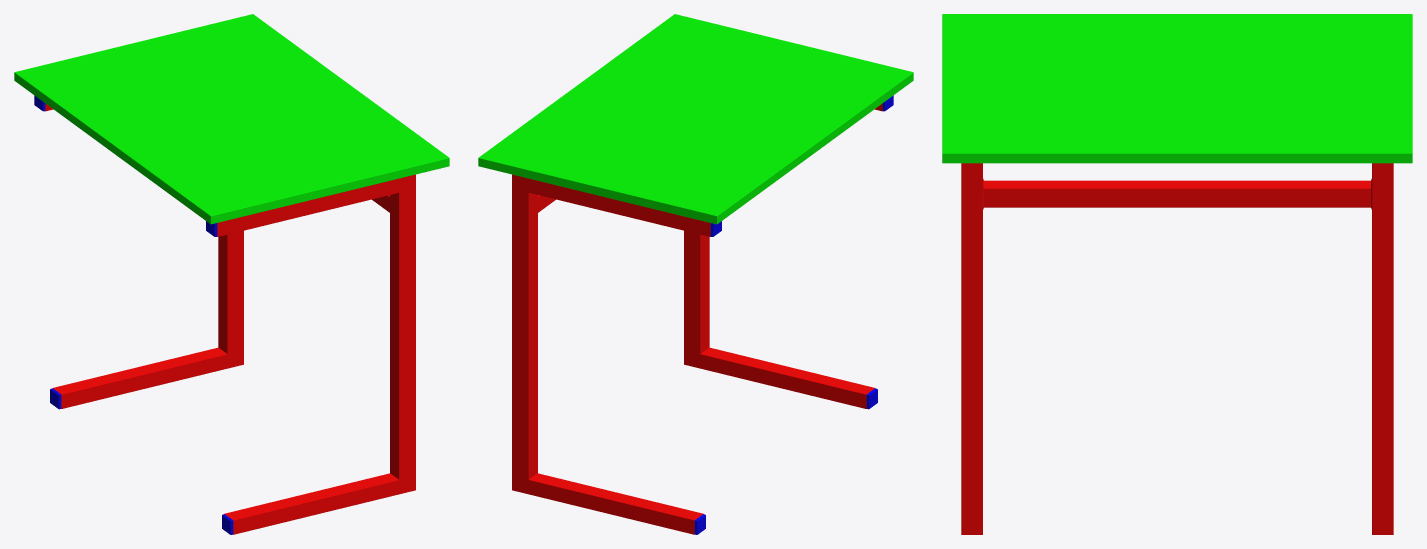
File: HanzeTableFinished.fbx
The picture shows the model from 3 angles, left to right: view 1: azimuth 30°, elevation 25°; view 2: azimuth 150°, elevation 25°; view 3: azimuth 270°, elevation 25°; orthographic projection. The views are drawn at different scales.
Parts seen in each view (by area): view 1: TableTop, TableBase; view 2: TableTop, TableBase; view 3: TableTop, TableBase.
Part boxes in pixels (x1,y1,x2,y2): TableTop: (14, 14, 449, 224); TableBase: (34, 95, 415, 534); TableTop: (478, 14, 913, 224); TableBase: (512, 95, 893, 534); TableTop: (942, 14, 1412, 163); TableBase: (961, 163, 1393, 534).
Size of the model in its own units: 114 by 79.98 by 106.
